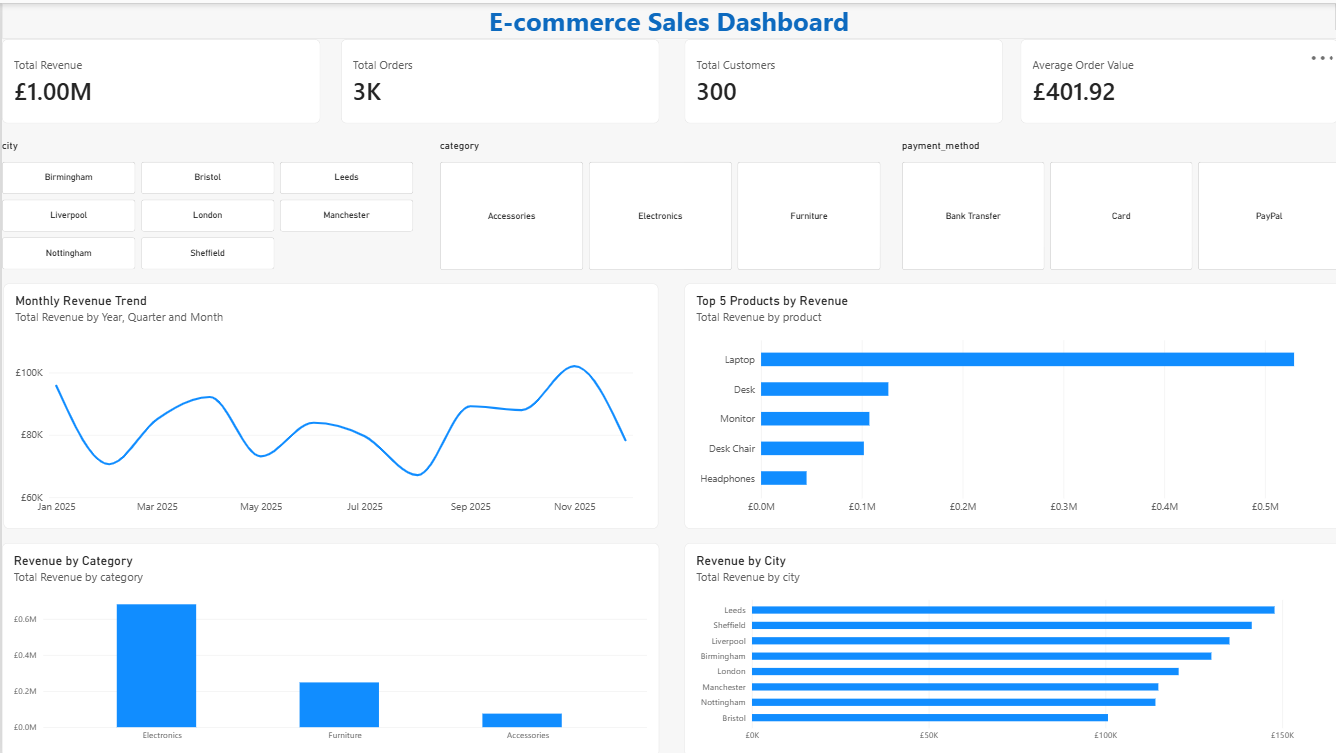

Layout of this report page (visuals, bound fields, positions):
{"tool":"powerbi","page":{"name":"Page 1","canvas":[1920,1080],"ordinal":0},"visuals":[{"type":"cardVisual","fields":{"Data":["ecommerce_sales_raw.Total Revenue"]},"box":[0,51,456.4,121.9],"z":0},{"type":"cardVisual","fields":{"Data":["ecommerce_sales_raw.Total Orders"]},"box":[484.7,51,456.4,121.9],"z":1},{"type":"cardVisual","fields":{"Data":["ecommerce_sales_raw.Total Customers"]},"box":[978,51,456.4,121.9],"z":2},{"type":"cardVisual","fields":{"Data":["ecommerce_sales_raw.Average Order Value"]},"box":[1459.9,51,456.4,121.9],"z":3},{"type":"lineChart","title":"Monthly Revenue Trend","fields":{"Category":["ecommerce_sales_raw.order_date.Variation.Date Hierarchy.Year","ecommerce_sales_raw.order_date.Variation.Date Hierarchy.Quarter","ecommerce_sales_raw.order_date.Variation.Date Hierarchy.Month","ecommerce_sales_raw.order_date.Variation.Date Hierarchy.Day"],"Y":["ecommerce_sales_raw.Total Revenue"]},"box":[2.8,402.5,938.3,351.5],"z":4},{"type":"barChart","title":"Top 5 Products by Revenue","fields":{"Category":["ecommerce_sales_raw.product"],"Y":["ecommerce_sales_raw.Total Revenue"]},"box":[978,402.5,941.1,351.5],"z":5},{"type":"columnChart","title":"Revenue by Category","fields":{"Category":["ecommerce_sales_raw.category"],"Y":["ecommerce_sales_raw.Total Revenue"]},"box":[0,773.9,941.1,306.1],"z":6},{"type":"clusteredBarChart","title":"Revenue by City","fields":{"Category":["ecommerce_sales_raw.city"],"Y":["ecommerce_sales_raw.Total Revenue"]},"box":[978,773.9,941.1,306.1],"z":7},{"type":"advancedSlicerVisual","fields":{"Values":["ecommerce_sales_raw.city"]},"box":[0,195.6,589.6,187.1],"z":8},{"type":"advancedSlicerVisual","fields":{"Values":["ecommerce_sales_raw.category"]},"box":[626.5,195.6,632.1,187.1],"z":9},{"type":"advancedSlicerVisual","fields":{"Values":["ecommerce_sales_raw.payment_method"]},"box":[1289.8,195.6,629.3,187.1],"z":10},{"type":"textbox","box":[0,0,1919.1,51],"z":12}]}

Visuals, with their boxes in screenshot pixels (x1, y1, x2, y2), scaled from the page's 1920x1080 canvas onto the 1336x753 screenshot:
cardVisual - ecommerce_sales_raw.Total Revenue: (x1=0, y1=36, x2=318, y2=121)
cardVisual - ecommerce_sales_raw.Total Orders: (x1=337, y1=36, x2=655, y2=121)
cardVisual - ecommerce_sales_raw.Total Customers: (x1=681, y1=36, x2=998, y2=121)
cardVisual - ecommerce_sales_raw.Average Order Value: (x1=1016, y1=36, x2=1333, y2=121)
"Monthly Revenue Trend" lineChart: (x1=2, y1=281, x2=655, y2=526)
"Top 5 Products by Revenue" barChart: (x1=681, y1=281, x2=1335, y2=526)
"Revenue by Category" columnChart: (x1=0, y1=540, x2=655, y2=752)
"Revenue by City" clusteredBarChart: (x1=681, y1=540, x2=1335, y2=752)
advancedSlicerVisual - ecommerce_sales_raw.city: (x1=0, y1=136, x2=410, y2=267)
advancedSlicerVisual - ecommerce_sales_raw.category: (x1=436, y1=136, x2=876, y2=267)
advancedSlicerVisual - ecommerce_sales_raw.payment_method: (x1=897, y1=136, x2=1335, y2=267)
textbox: (x1=0, y1=0, x2=1335, y2=36)
